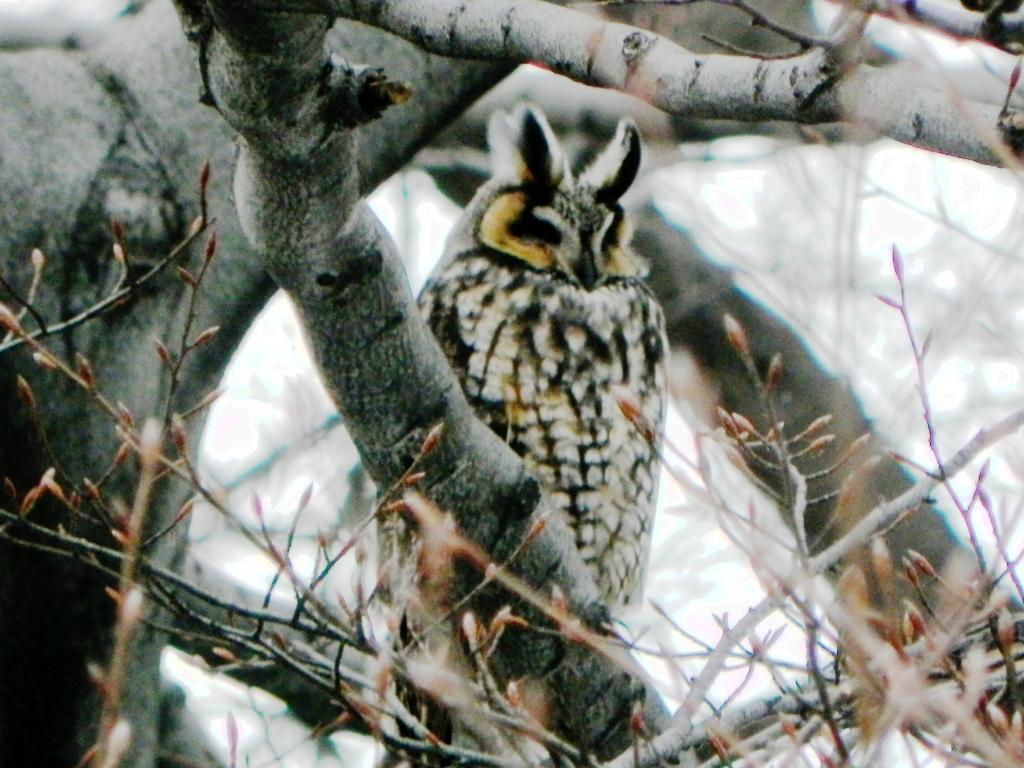Owl: (376, 102, 670, 644)
